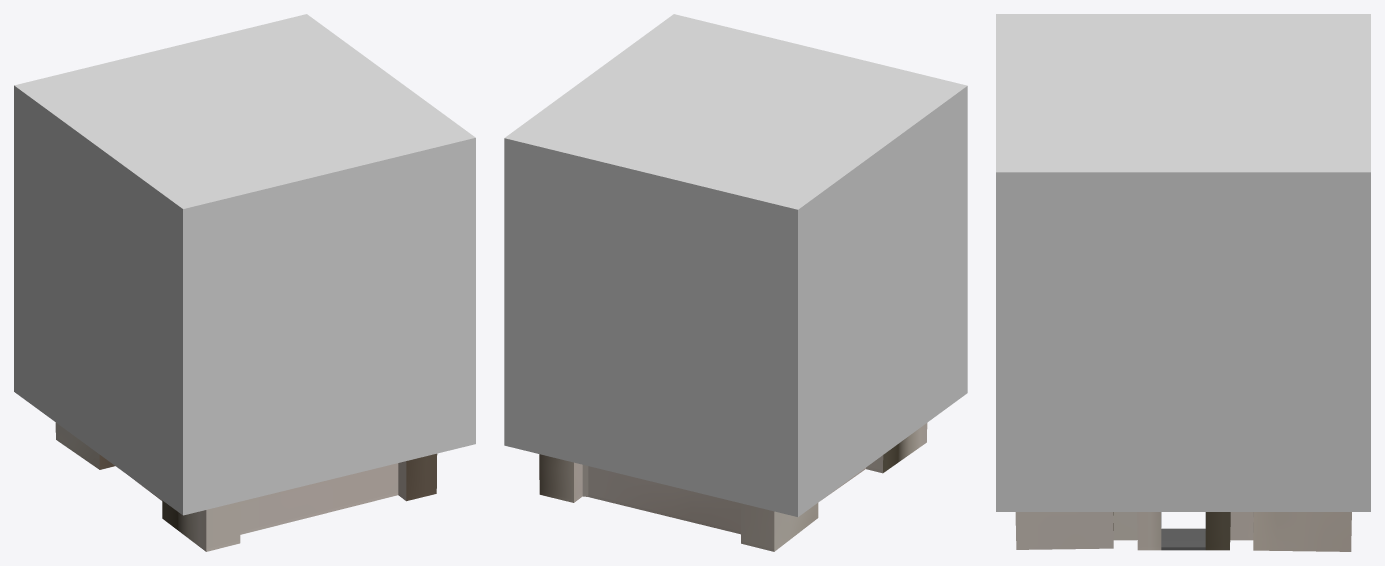
File: 2castle.fbx
3 views of the same model, side by side, from view 1: azimuth 30°, elevation 25°; view 2: azimuth 150°, elevation 25°; view 3: azimuth 270°, elevation 25° (orthographic). The views are drawn at different scales.
Visible parts, largest first — view 1: Cube.003, Cube; view 2: Cube.003, Cube; view 3: Cube.003, Cube.
Boxes of the visible parts, x1,y1,x2,y2 form: Cube.003: (14,14,475,515); Cube: (55,422,437,551); Cube.003: (504,14,967,516); Cube: (539,423,927,551); Cube.003: (996,14,1370,511); Cube: (1015,512,1351,551).
Bounding box in the file's own units: 1708 × 1990 × 1708.
